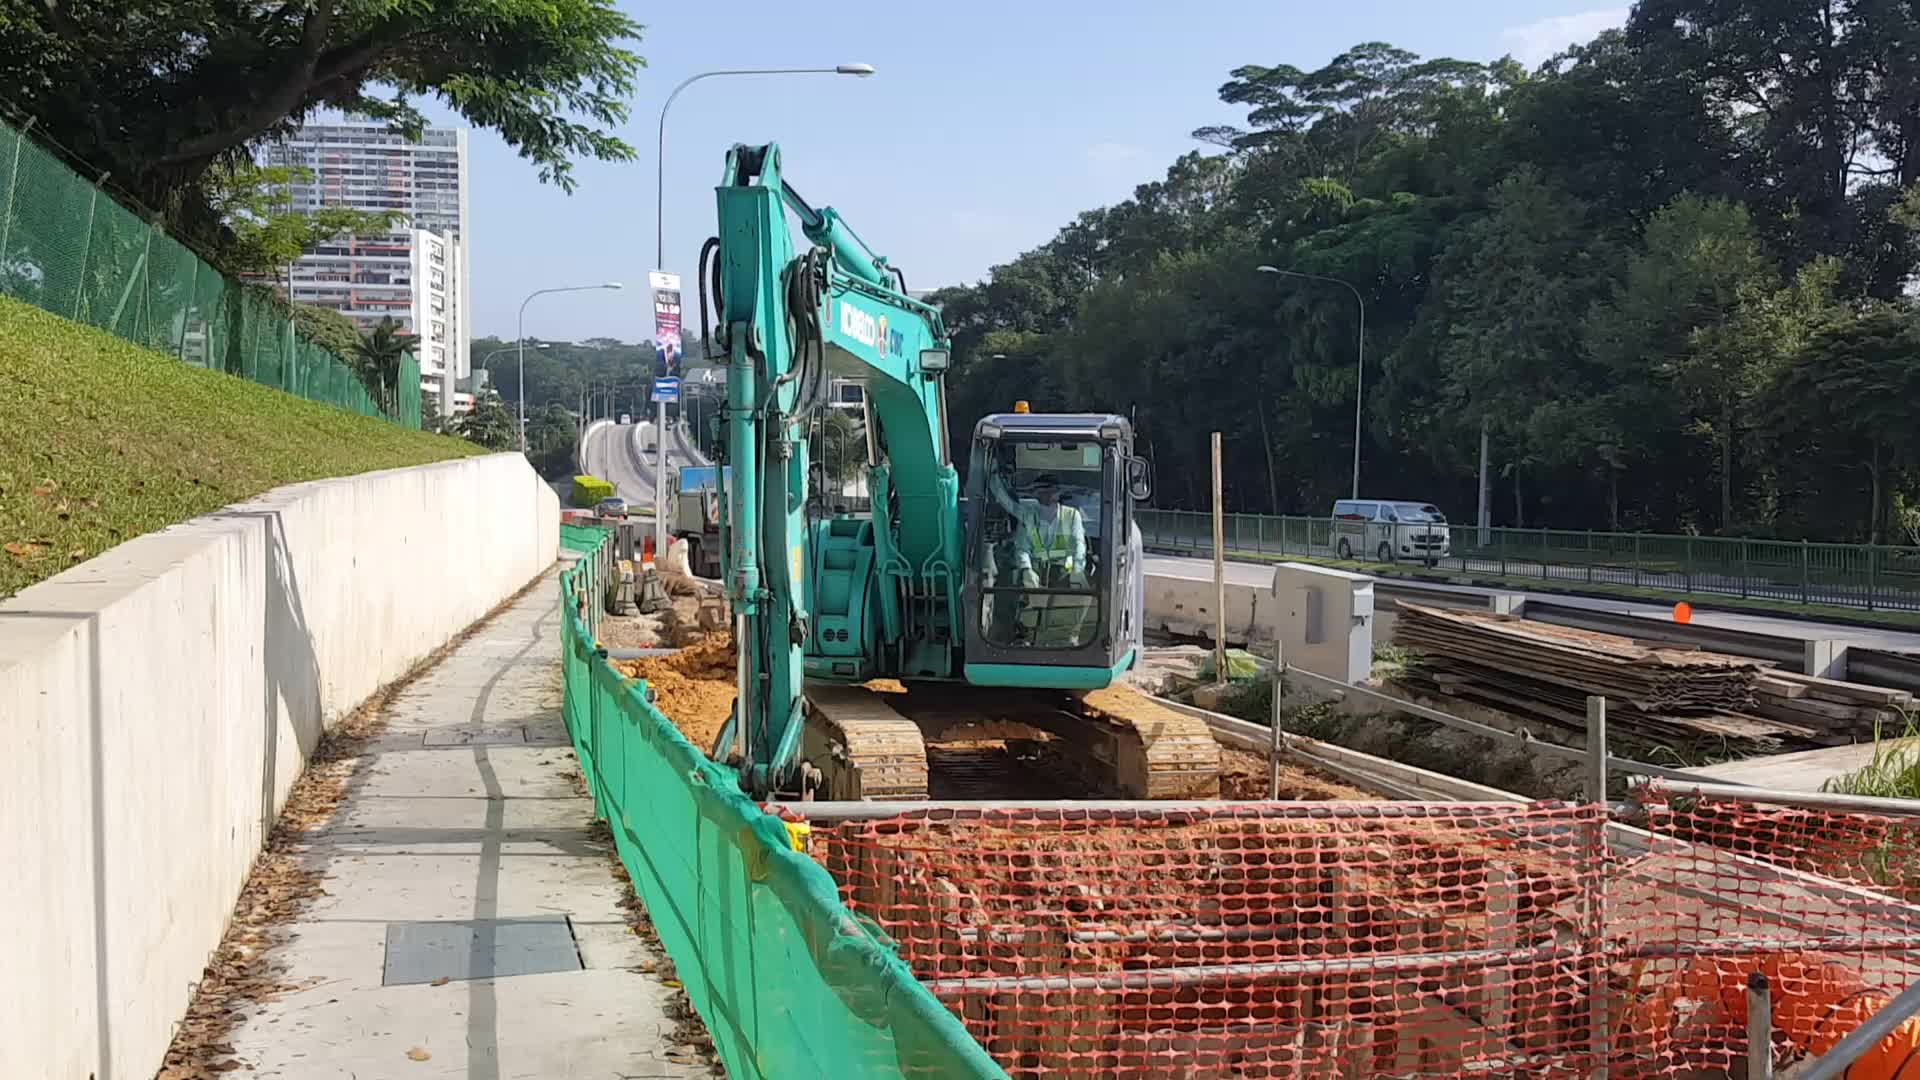cabin: (796, 405, 1143, 684)
forearm: (717, 142, 794, 777)
upperarm: (785, 261, 957, 558)
wheelbase: (800, 683, 1221, 798)
